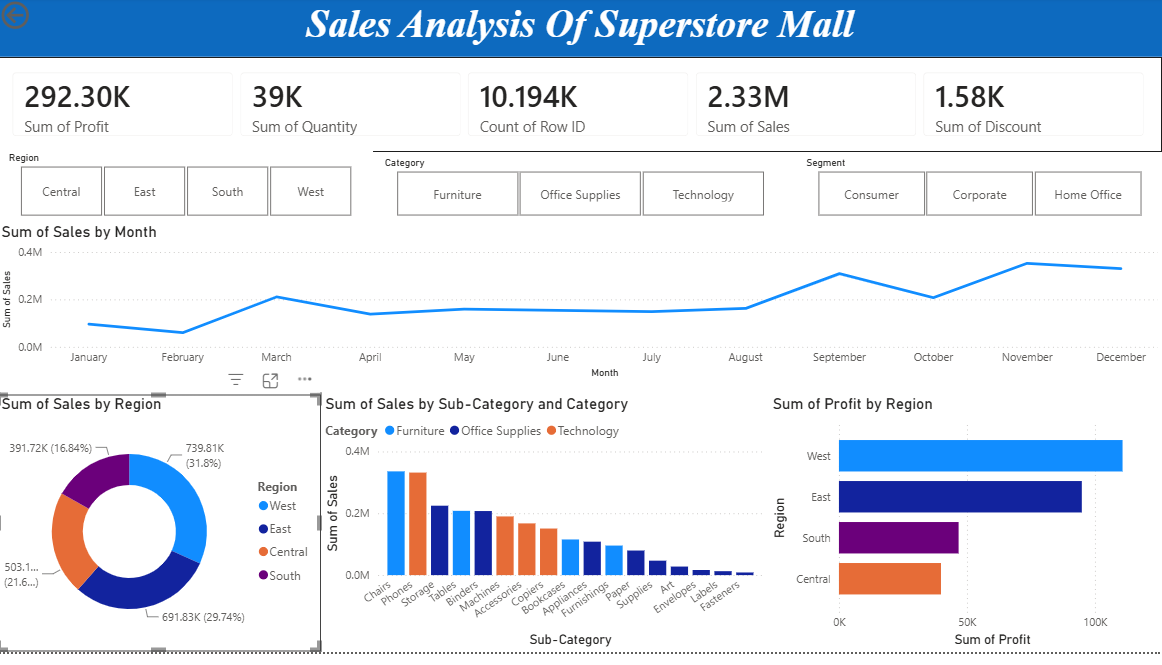

The dashboard page shown, as its layout file describes it:
{"tool":"powerbi","page":{"name":"Page 1","canvas":[1280,720],"ordinal":0},"visuals":[{"type":"textbox","box":[0,0,1280.3,65.9],"z":0},{"type":"cardVisual","fields":{"Data":["Sum(Orders.Profit)","Sum(Orders.Quantity)","CountNonNull(Orders.Row ID)","Sum(Orders.Sales)","Sum(Orders.Discount)"]},"box":[0,65.9,1280.3,104.3],"z":1000},{"type":"actionButton","box":[0,0,100,40],"z":2000},{"type":"donutChart","fields":{"Y":["Sum(Orders.Sales)"],"Category":["Orders.Region"]},"box":[0,437,356,282],"z":3000},{"type":"columnChart","fields":{"Y":["Sum(Orders.Sales)"],"Category":["Orders.Sub-Category"],"Series":["Orders.Category"]},"box":[356,437,490,282],"z":4000},{"type":"clusteredBarChart","fields":{"Y":["Sum(Orders.Profit)"],"Category":["Orders.Region"]},"box":[846,437,434,282],"z":5000},{"type":"lineChart","fields":{"Y":["Sum(Orders.Sales)"],"Category":["Orders.Order Date.Variation.Date Hierarchy.Year","Orders.Order Date.Variation.Date Hierarchy.Quarter","Orders.Order Date.Variation.Date Hierarchy.Month","Orders.Order Date.Variation.Date Hierarchy.Day"]},"box":[0,247,1280.3,177],"z":6000},{"type":"slicer","fields":{"Values":["Orders.Region"]},"box":[0,164.7,413,82.3],"z":7000},{"type":"slicer","fields":{"Values":["Orders.Category"]},"box":[413,170.2,452.8,76.8],"z":8000},{"type":"slicer","fields":{"Values":["Orders.Segment"]},"box":[875.5,170.2,404.8,76.8],"z":9000}]}

Visuals, with their boxes in screenshot pixels (x1, y1, x2, y2), scaled from the page's 1280x720 canvas onto the 1162x665 screenshot:
textbox: BBox(0, 0, 1161, 61)
cardVisual - Sum(Orders.Profit) x Sum(Orders.Quantity): BBox(0, 61, 1161, 157)
actionButton: BBox(0, 0, 91, 37)
donutChart - Sum(Orders.Sales) x Orders.Region: BBox(0, 404, 323, 664)
columnChart - Sum(Orders.Sales) x Orders.Sub-Category: BBox(323, 404, 768, 664)
clusteredBarChart - Sum(Orders.Profit) x Orders.Region: BBox(768, 404, 1161, 664)
lineChart - Sum(Orders.Sales) x Orders.Order Date.Variation.Date Hierarchy.Year: BBox(0, 228, 1161, 392)
slicer - Orders.Region: BBox(0, 152, 375, 228)
slicer - Orders.Category: BBox(375, 157, 786, 228)
slicer - Orders.Segment: BBox(795, 157, 1161, 228)
